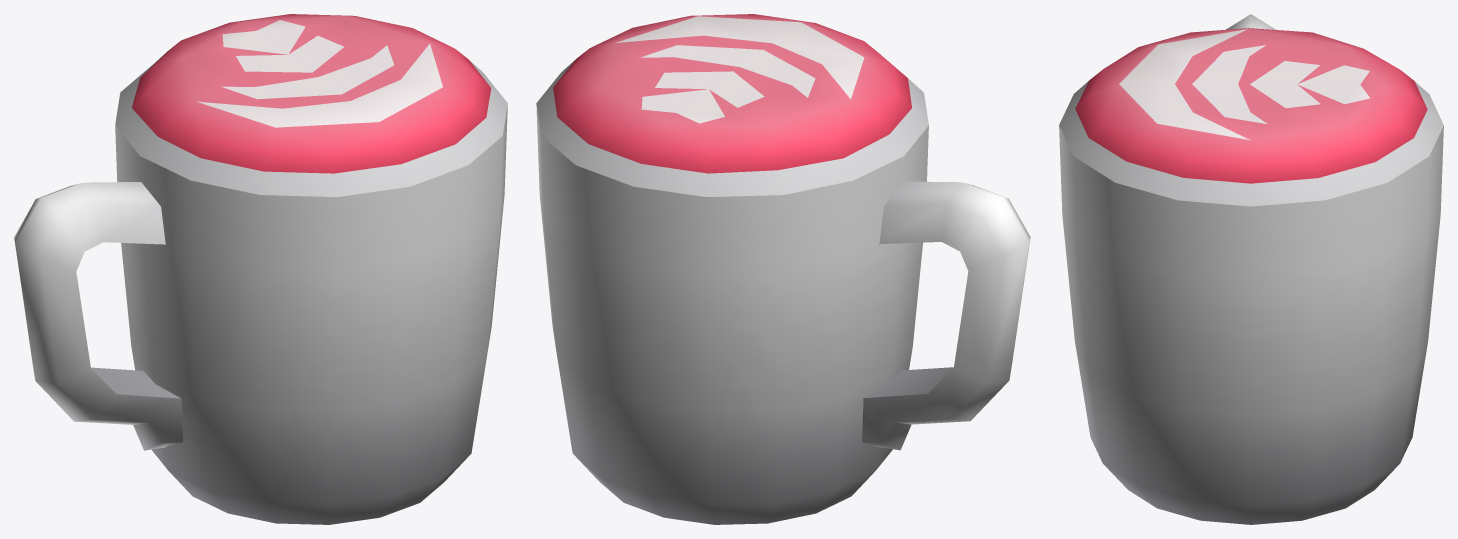
The model's file is m_Mug01_Pink03.fbx.
3 renders of one model, left to right at view 1: azimuth 30°, elevation 25°; view 2: azimuth 150°, elevation 25°; view 3: azimuth 270°, elevation 25°, orthographic. The views are drawn at different scales.
Visible parts, largest first — view 1: m_Mug01_Pink03; view 2: m_Mug01_Pink03; view 3: m_Mug01_Pink03.
Boxes of the visible parts, left/top/right/bottom form: m_Mug01_Pink03: left=14, top=14, right=507, bottom=524; m_Mug01_Pink03: left=536, top=14, right=1030, bottom=524; m_Mug01_Pink03: left=1059, top=14, right=1443, bottom=524.
Size of the model in its own units: 15.22 by 12.3 by 11.16.
